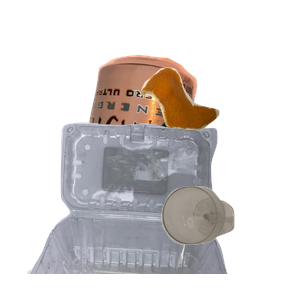glass: (159, 184, 300, 300)
metal: (73, 52, 263, 232)
plastic: (25, 120, 245, 300)
trash: (137, 65, 300, 188)
